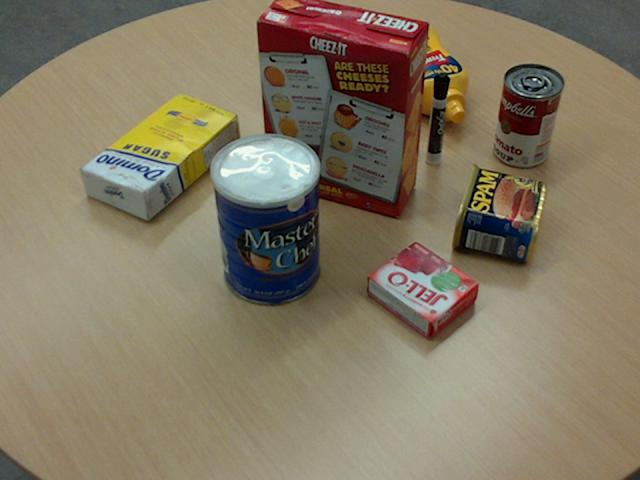cracker_box: (255, 0, 427, 216)
gelatin_box: (367, 240, 480, 338)
large_marker: (425, 73, 449, 164)
master_chef_can: (209, 133, 319, 305)
mug: (277, 34, 353, 125)
mustard_bottle: (364, 18, 468, 122)
potted_meat_can: (450, 162, 545, 261)
sugar_box: (79, 91, 239, 219)
tomato_soup_can: (493, 63, 563, 167)
tuna_fish_can: (293, 22, 355, 76)
